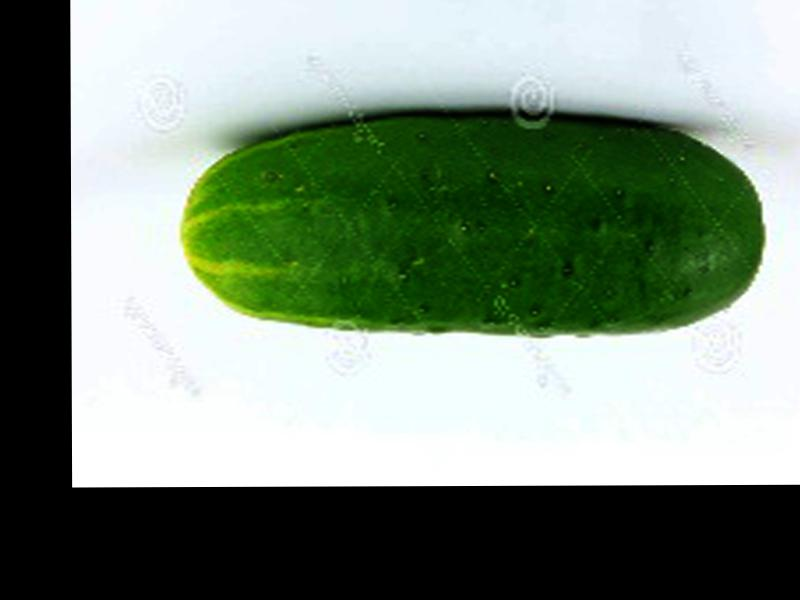Cucumber: (184, 111, 766, 333)
